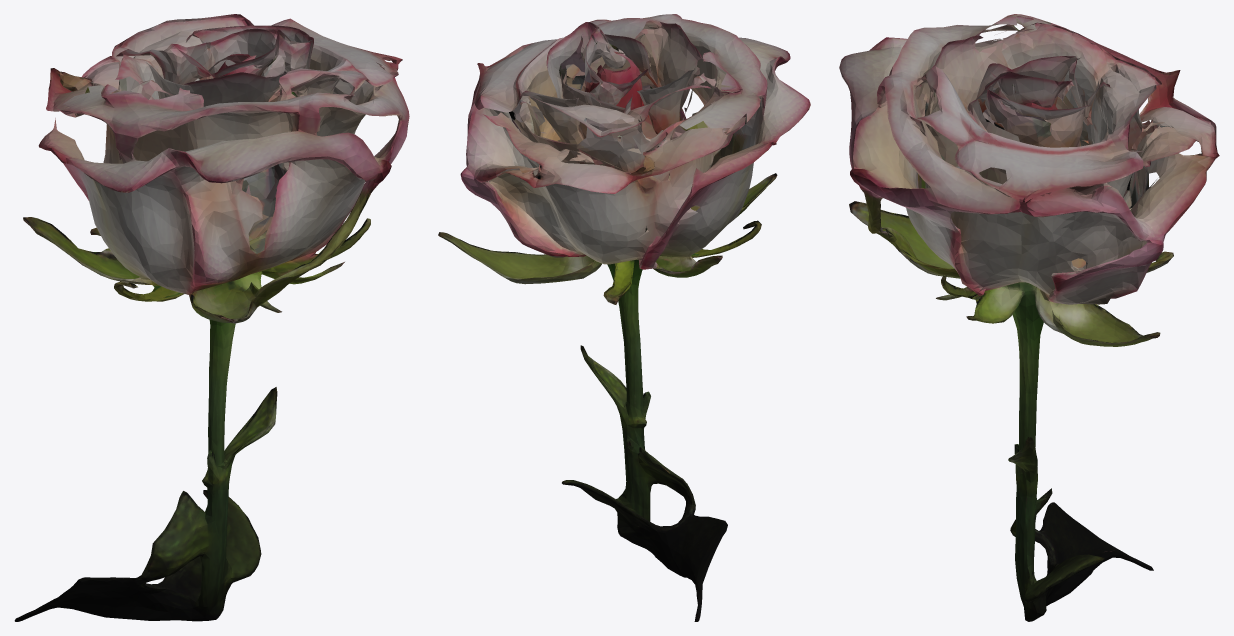
3 renders of one model, left to right at view 1: azimuth 30°, elevation 25°; view 2: azimuth 150°, elevation 25°; view 3: azimuth 270°, elevation 25°, orthographic. The views are drawn at different scales.
Visible parts, largest first — view 1: world; view 2: world; view 3: world.
Part boxes in pixels (x1,y1,x2,y2): world: [14, 14, 409, 621]; world: [438, 14, 810, 621]; world: [839, 14, 1219, 621].
Bounding box in the file's own units: 0.6094 × 0.994 × 0.5802.
1 material, 1 textured.
